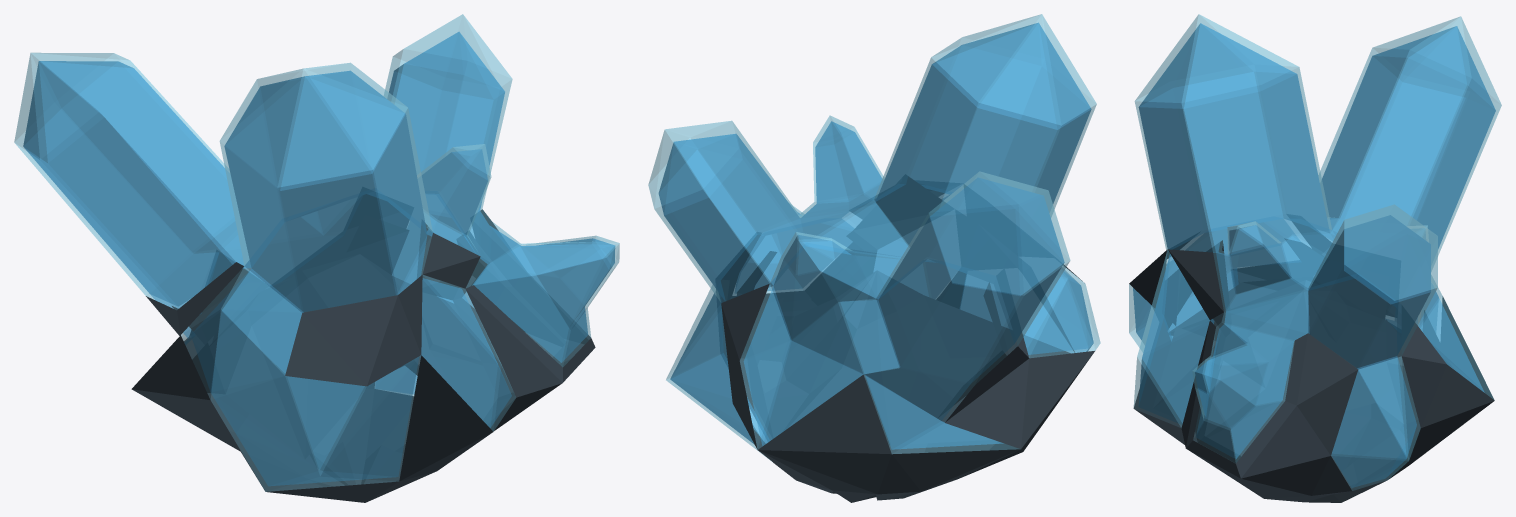
File: Env_Crystal_01.FBX
3 views of the same model, side by side, from view 1: azimuth 30°, elevation 25°; view 2: azimuth 150°, elevation 25°; view 3: azimuth 270°, elevation 25° (orthographic). The views are drawn at different scales.
Visible parts, largest first — view 1: GeoSphere001, Object001; view 2: GeoSphere001, Object001; view 3: GeoSphere001, Object001.
Part boxes in pixels (left/top/right/bottom): GeoSphere001: left=14, top=14, right=619, bottom=502; Object001: left=172, top=215, right=570, bottom=458; GeoSphere001: left=648, top=14, right=1100, bottom=502; Object001: left=737, top=176, right=1074, bottom=445; GeoSphere001: left=1129, top=14, right=1501, bottom=502; Object001: left=1153, top=238, right=1451, bottom=463.
Size of the model in its own units: 27.14 by 27.62 by 21.29.
